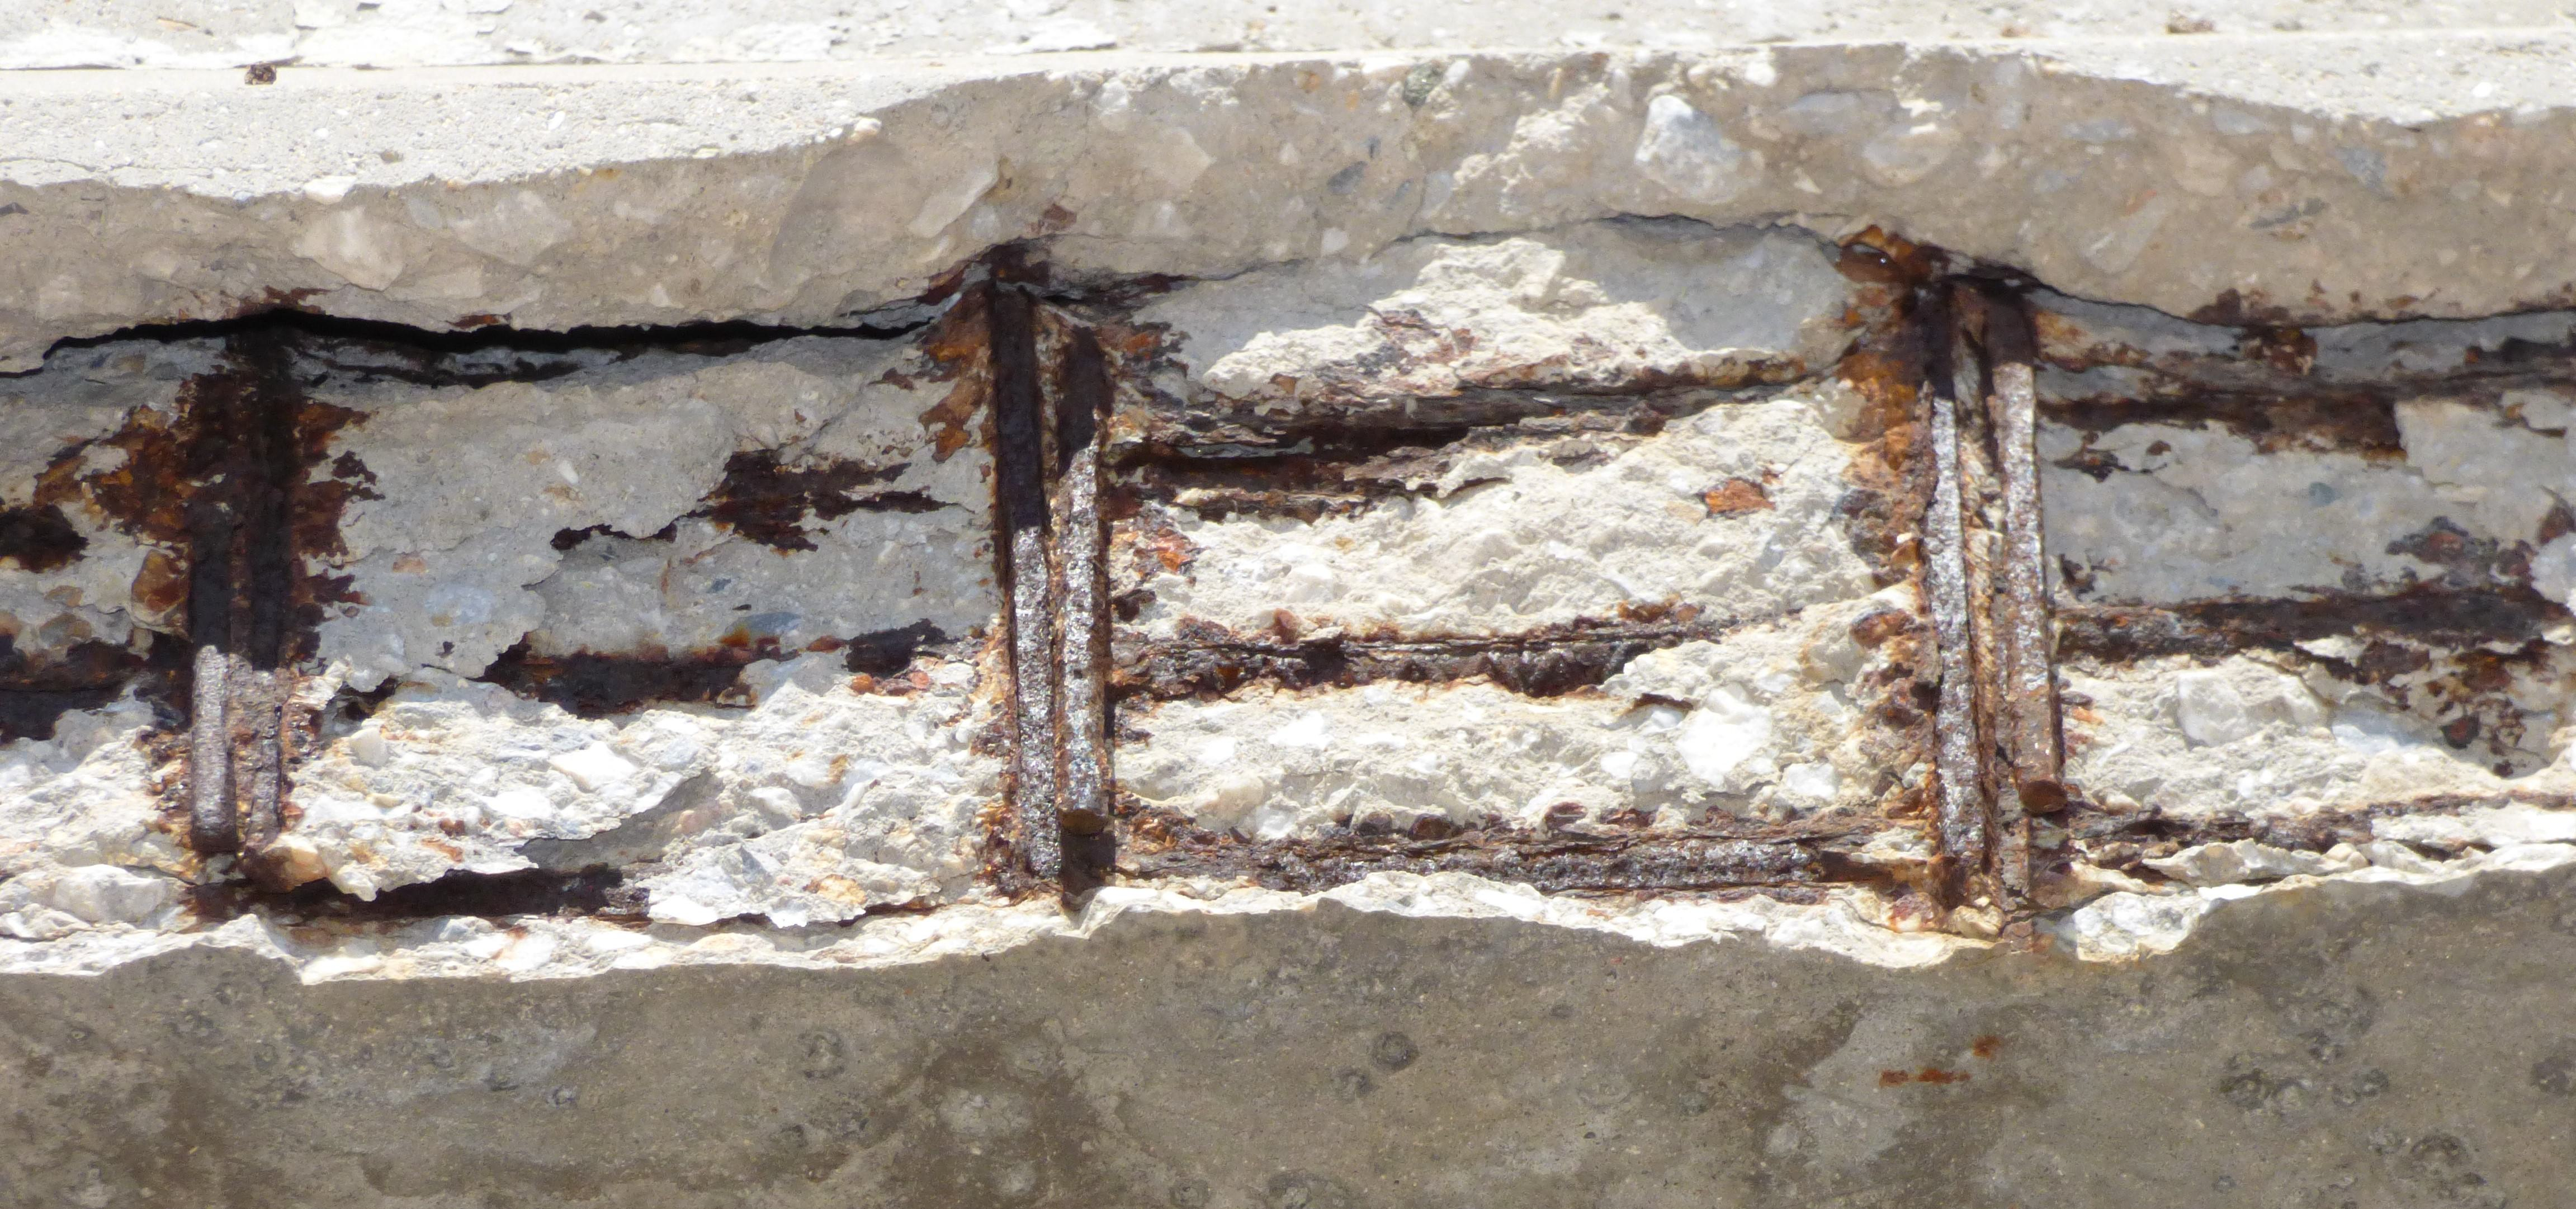Corrosion: (2049, 485, 2576, 777), (1833, 225, 1940, 931), (2039, 325, 2576, 460), (177, 866, 652, 948), (1112, 432, 1475, 529), (0, 404, 186, 575), (465, 629, 803, 719), (683, 448, 961, 554), (869, 283, 992, 485), (0, 629, 189, 742), (805, 618, 961, 695), (1697, 467, 1784, 521), (549, 521, 678, 552), (1879, 1069, 1973, 1089), (1971, 1033, 2004, 1060)
Exposed reinforcement: (1132, 616, 1738, 695), (1142, 825, 1828, 892), (1981, 301, 2068, 816), (987, 279, 1061, 876), (1922, 287, 1986, 872), (2072, 793, 2576, 857), (1056, 325, 1112, 838), (294, 398, 388, 669), (187, 371, 240, 846), (1219, 386, 1732, 430), (243, 348, 283, 846), (2049, 609, 2328, 660), (350, 876, 618, 918)
Spalling: (0, 44, 2576, 981)
